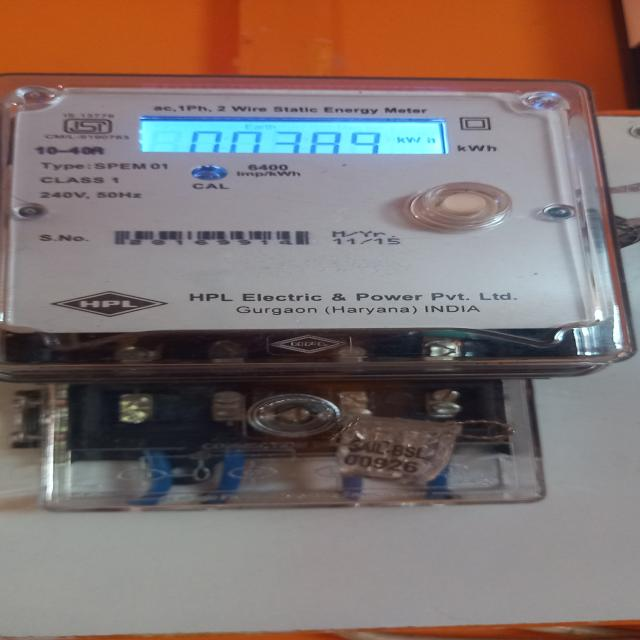display: (126, 110, 454, 156)
